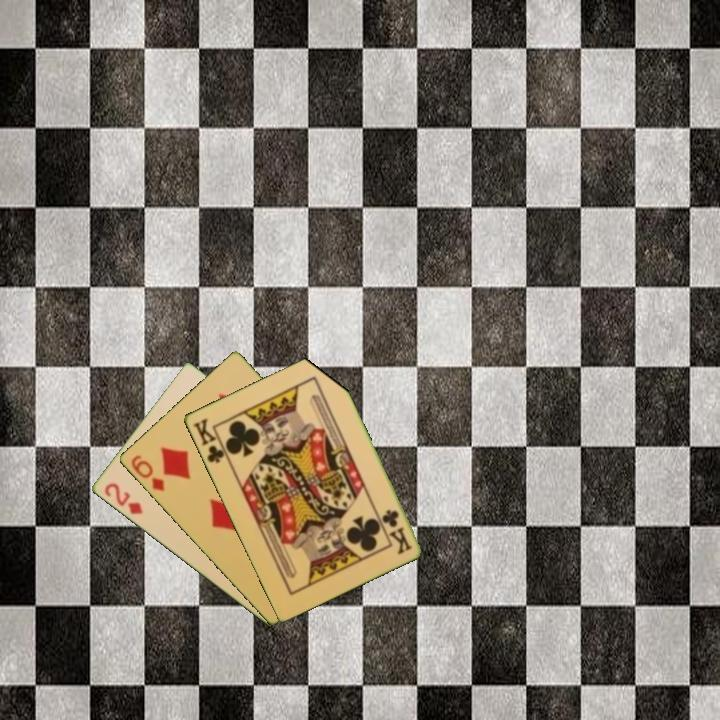2d: (100, 479, 145, 518)
6d: (127, 451, 167, 494)
Kc: (189, 415, 231, 466), (378, 506, 414, 557)
